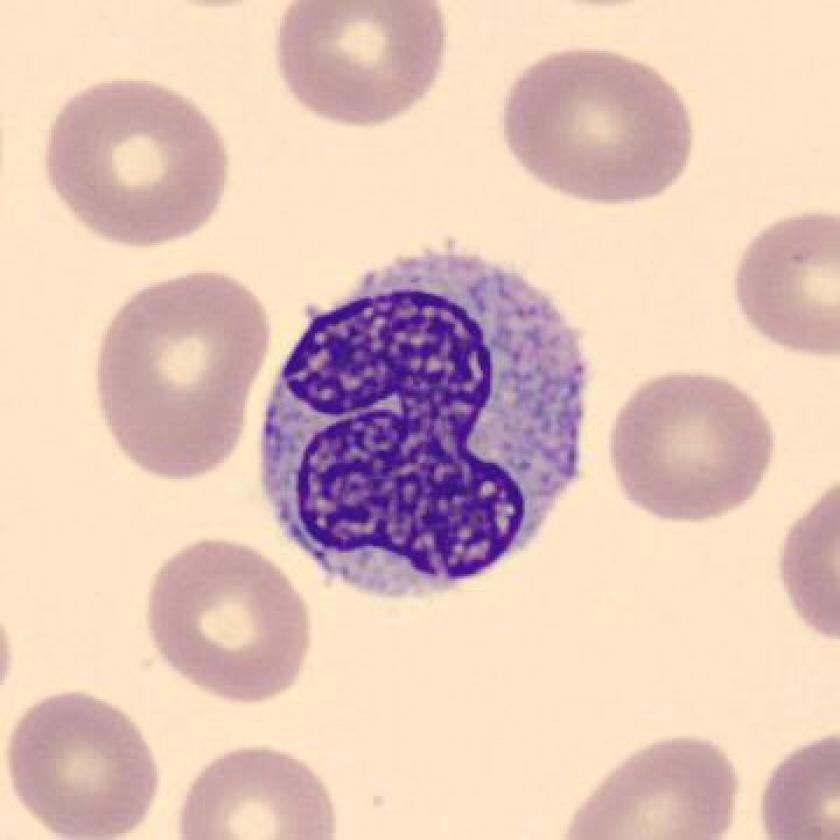monocyte: (244, 230, 603, 621)
